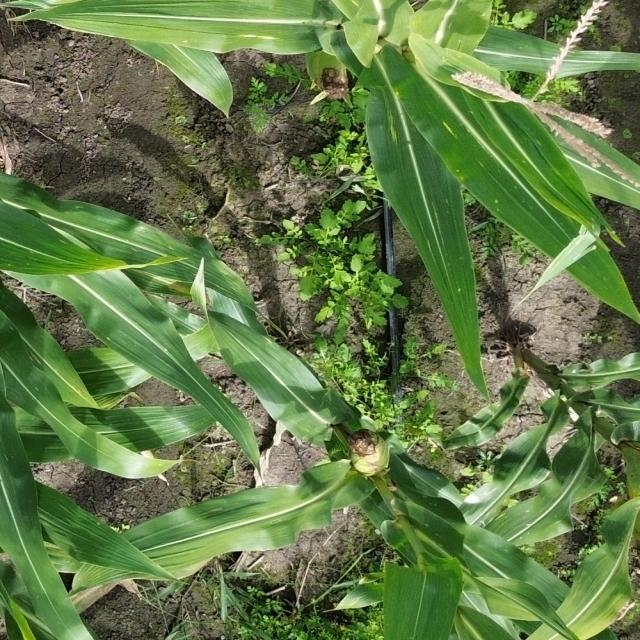gray-leaf-spot: (8, 328, 82, 414)
southern-leaf-blight: (420, 480, 544, 595), (454, 148, 567, 242), (407, 206, 490, 318), (18, 214, 142, 288)
